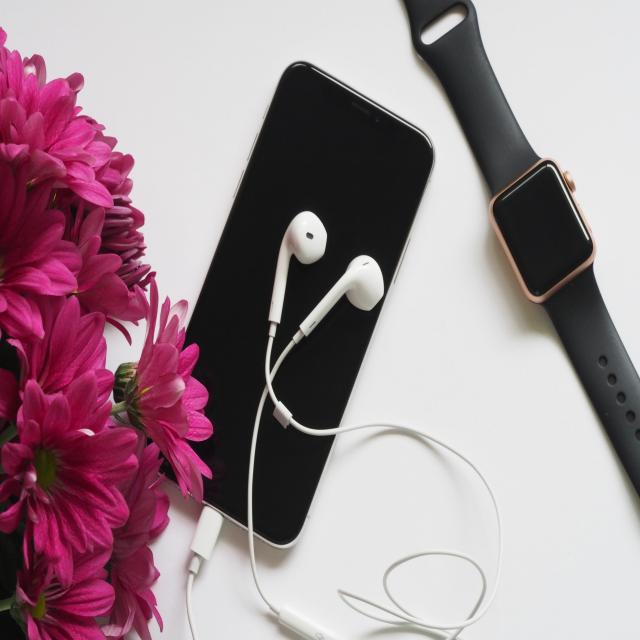headphones: (253, 194, 408, 352)
hour: (437, 46, 640, 440)
phone: (197, 67, 422, 548)
